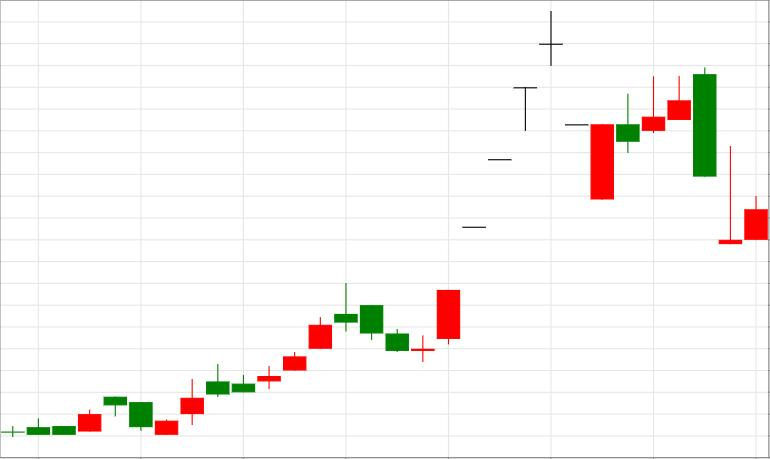bearish_engulfing_fall: (592, 67, 716, 199)
